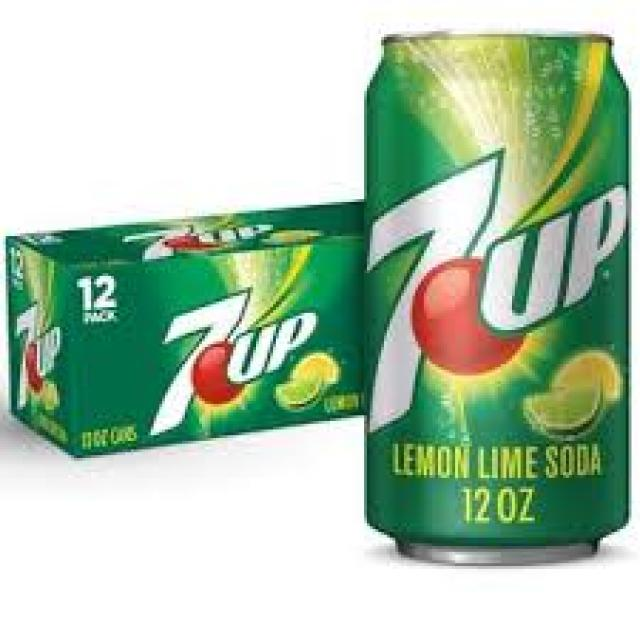Cans: (350, 26, 640, 566)
